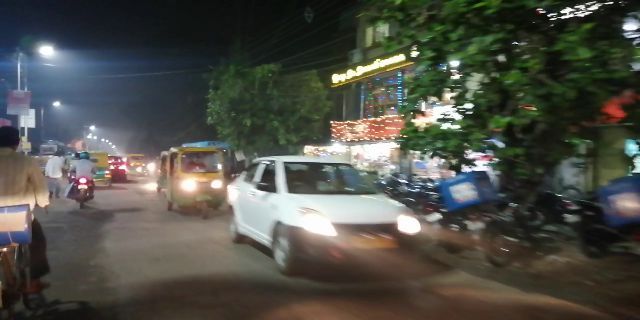Autorickshaw: (169, 146, 227, 216), (90, 152, 113, 189)
Car: (222, 153, 419, 273)
Motorbike: (69, 146, 95, 213)
